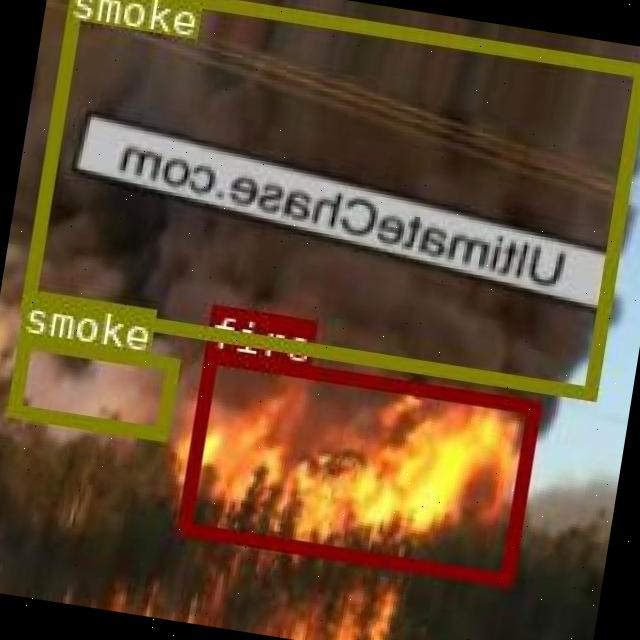fire: (175, 348, 537, 584)
smoke: (20, 0, 640, 398), (5, 331, 176, 438)
